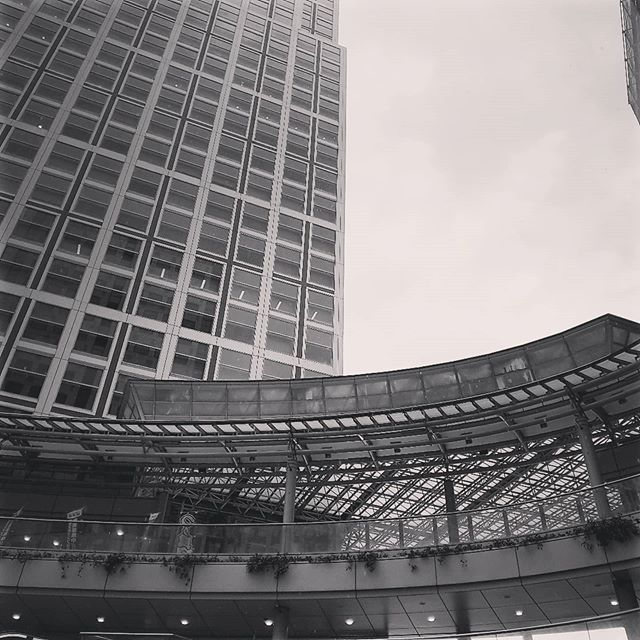building: (1, 343, 629, 640), (1, 1, 353, 387)
sky: (349, 1, 640, 366)
